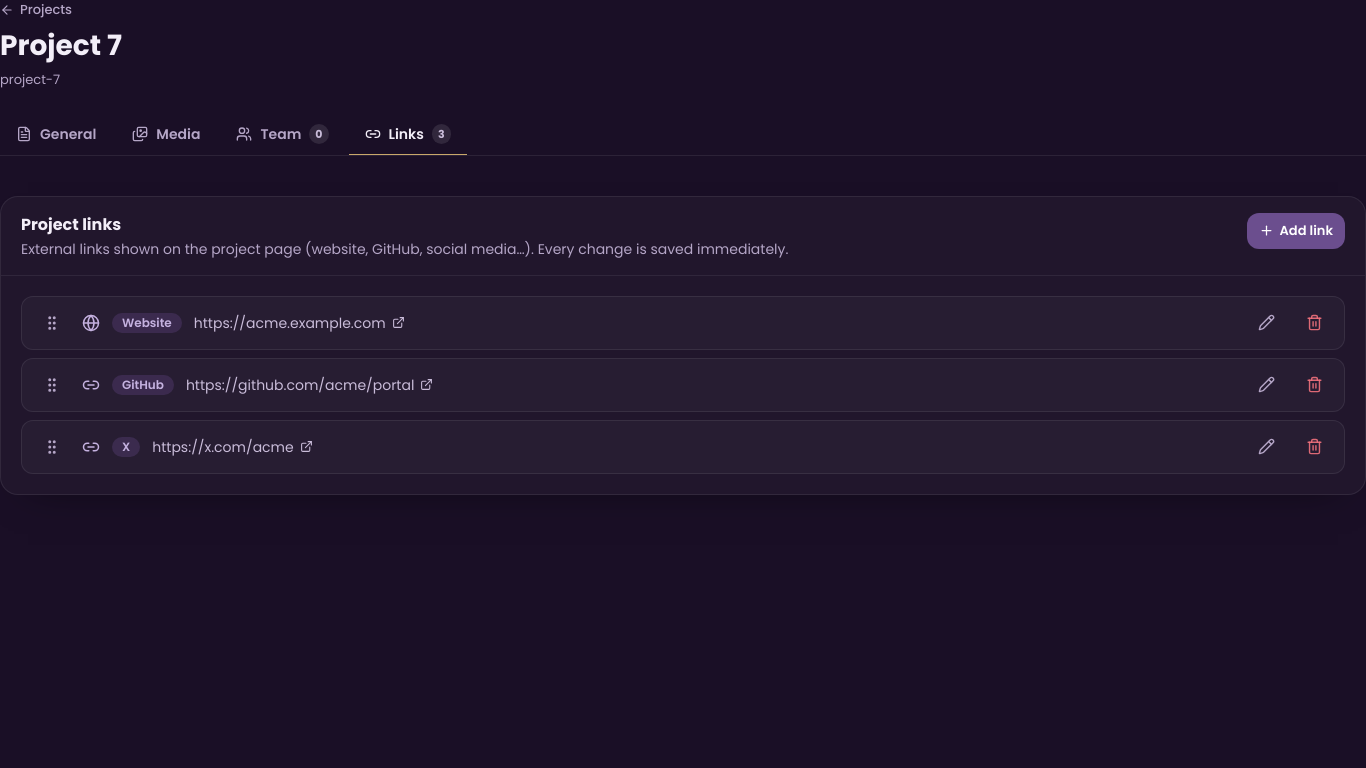
Links tab › add › creates the link, refreshes the list and the counts
Expected: the list named "Project links" is shown, left=21, top=296, right=1345, bottom=474
Step 1. Click the button "Add link" → x=1296, y=231, box left=1246, top=213, right=1345, bottom=249
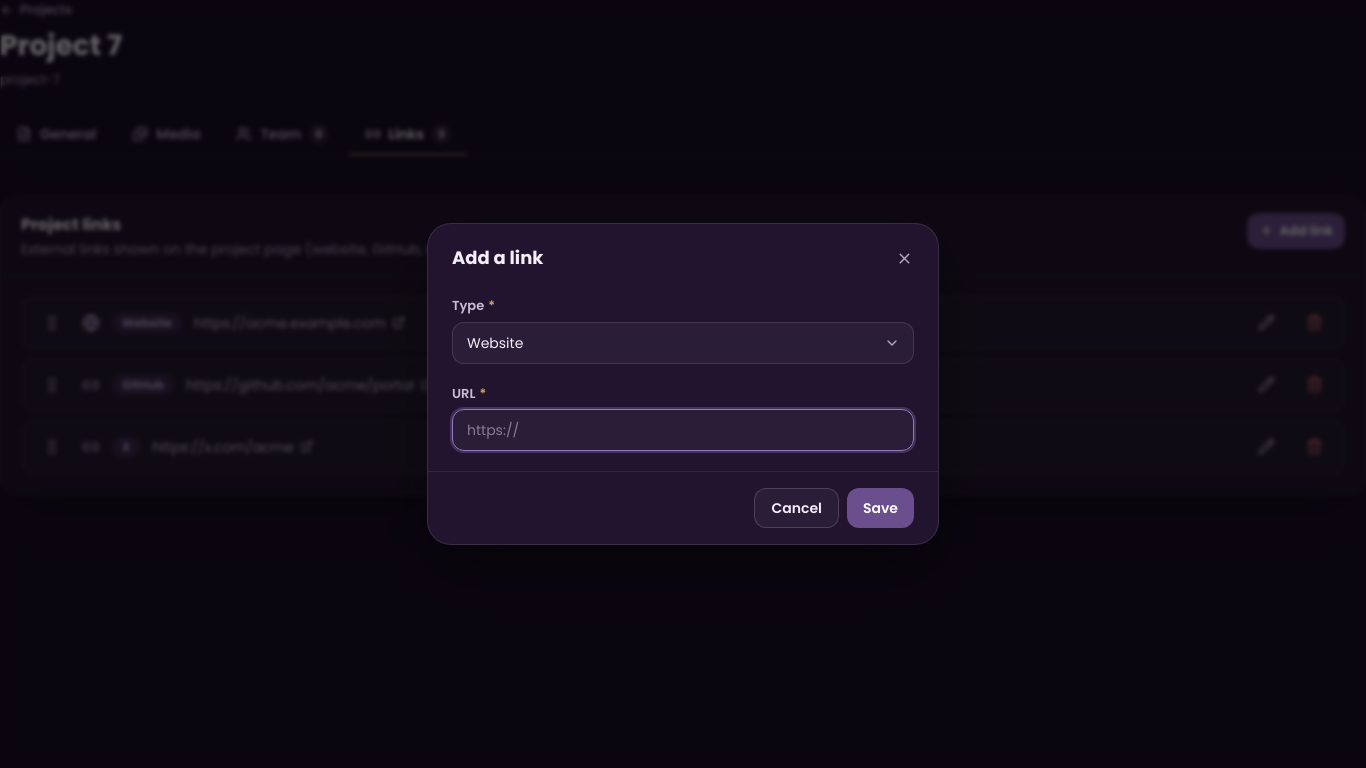
Step 2. Select "LinkedIn" in the dropdown labelled "Type *" → x=683, y=342, box left=452, top=322, right=914, bottom=364
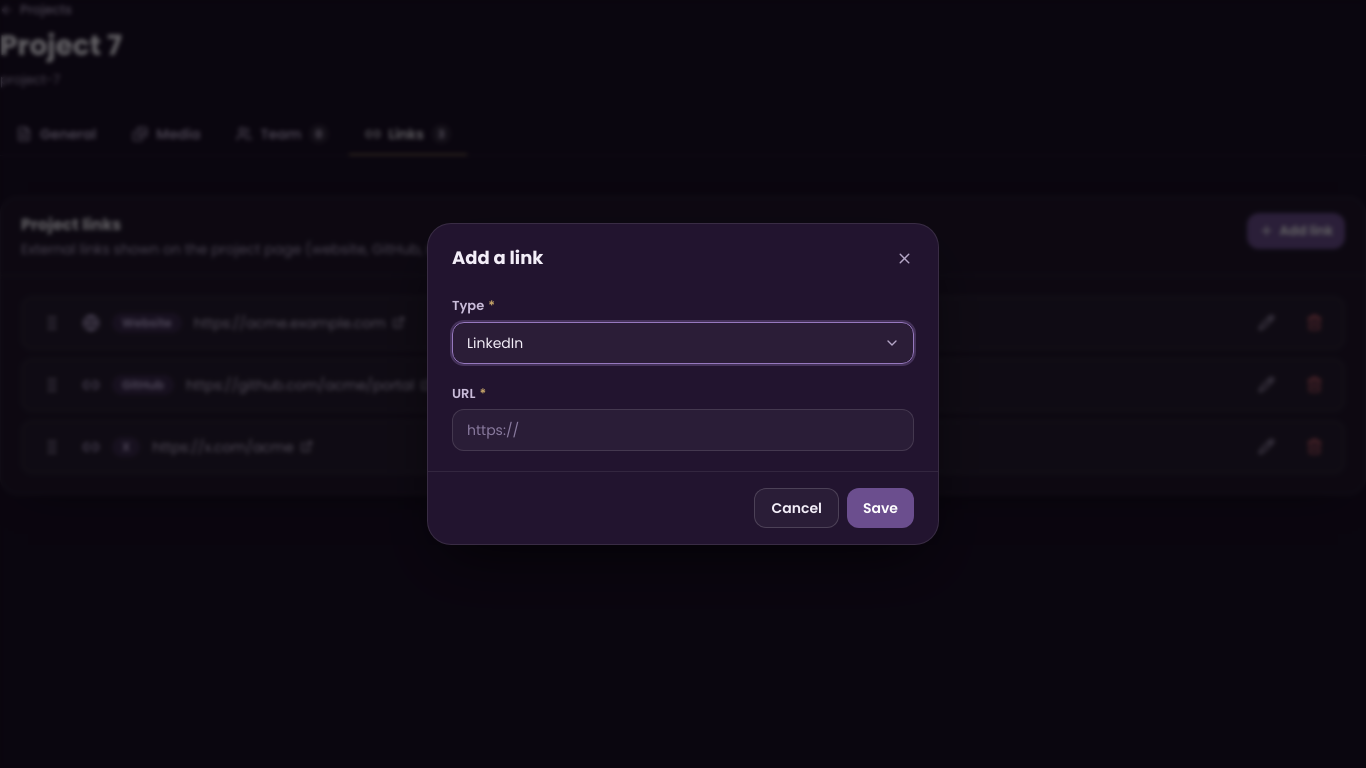
Step 3. Click the field labelled "URL *" → x=683, y=430, box left=452, top=409, right=914, bottom=451
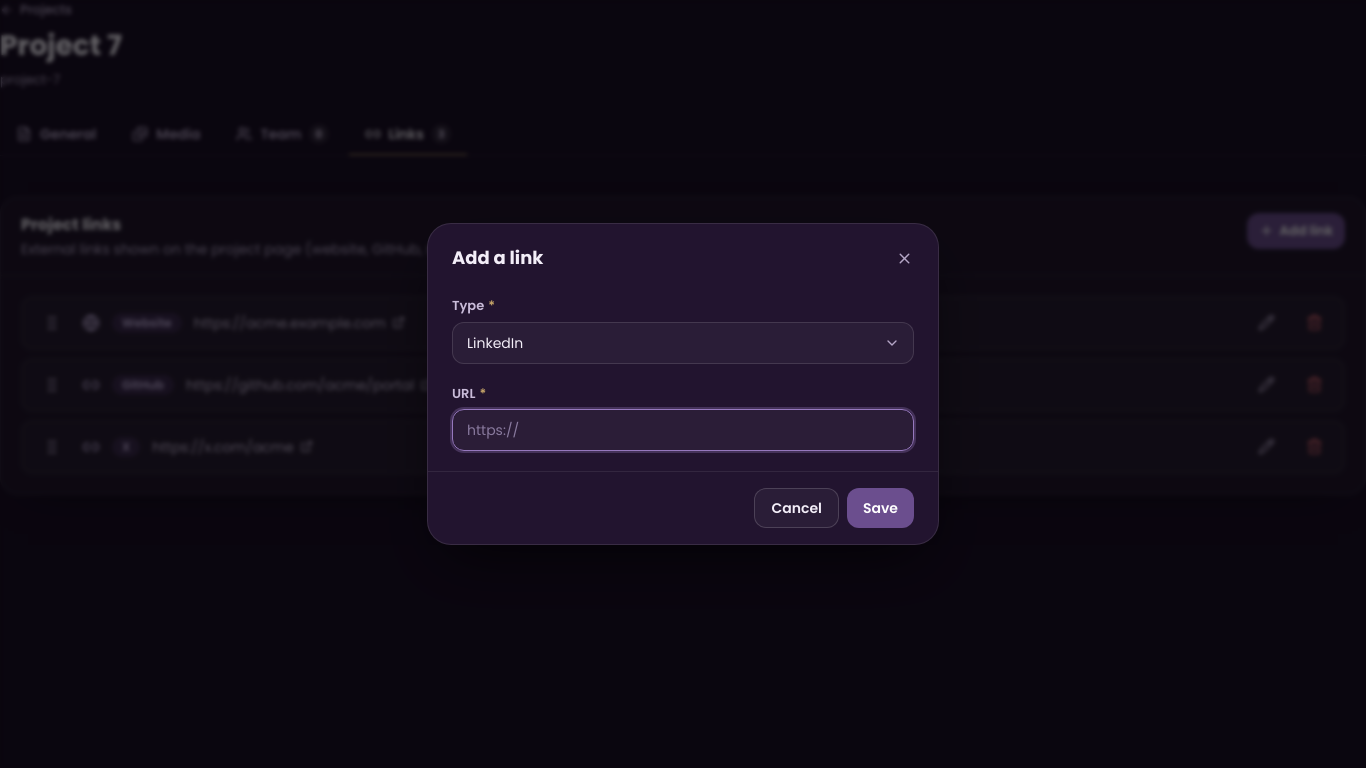
Step 4. Type keys "https://linkedin.com/company/acme"
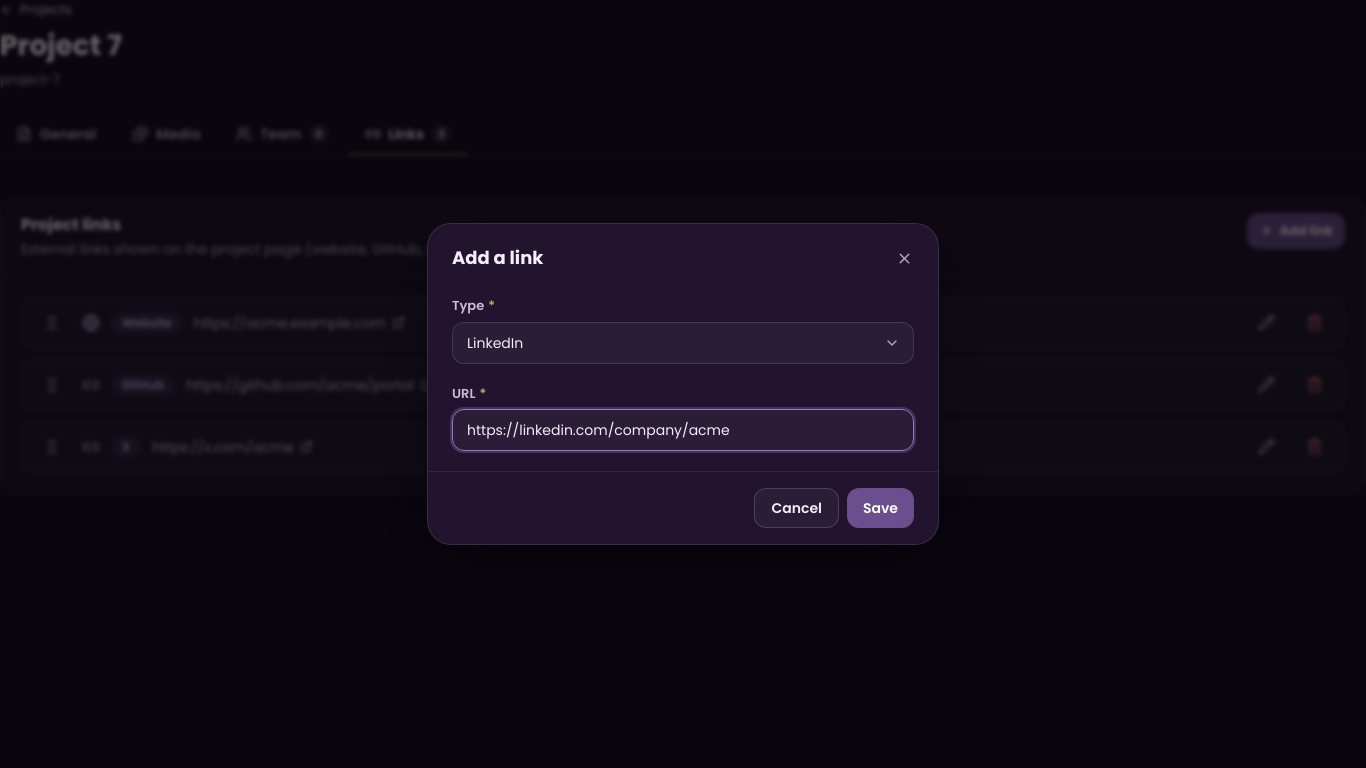
Step 5. Click the button "Save" → x=880, y=508, box left=847, top=488, right=914, bottom=528
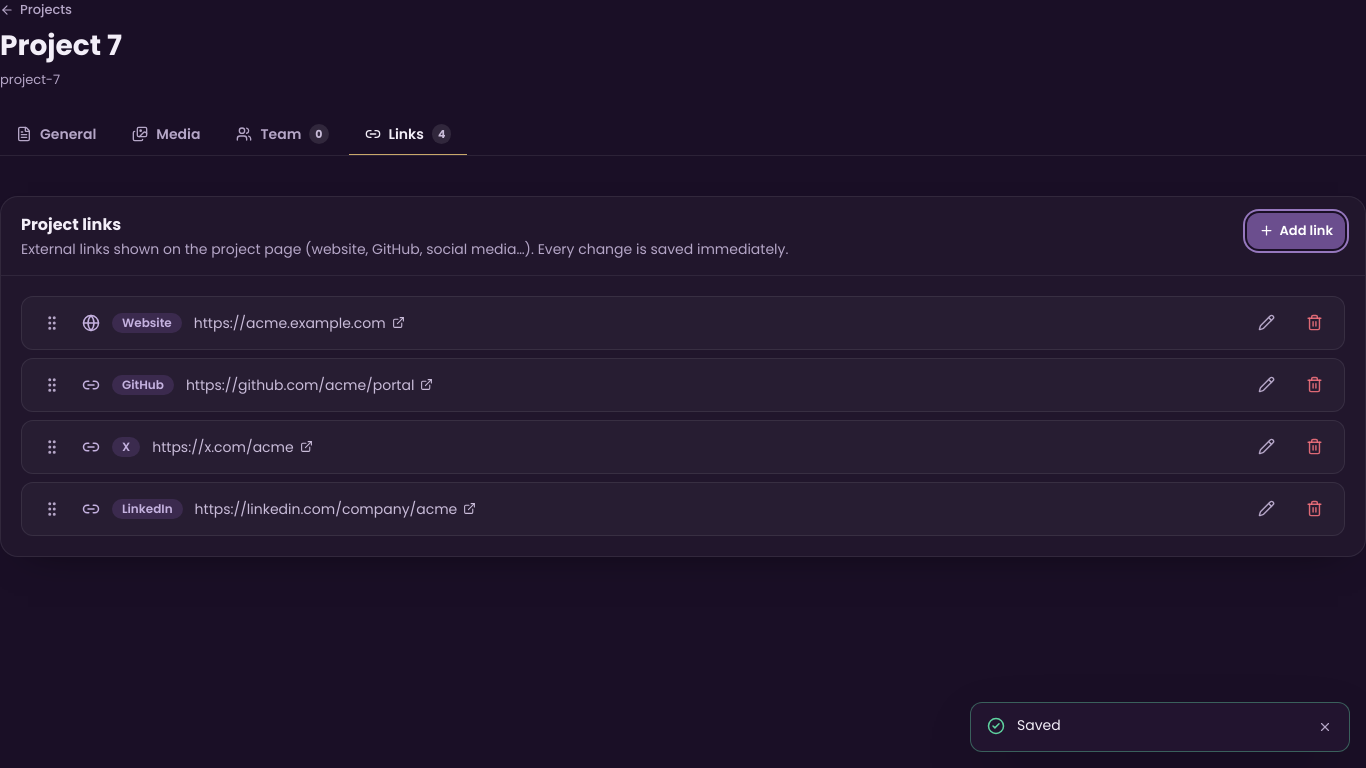
Now the dialog is gone
Now the link "https://linkedin.com/company/acme" is shown, box left=195, top=499, right=476, bottom=519
Now the text "Saved" is shown, box left=1017, top=715, right=1061, bottom=735
